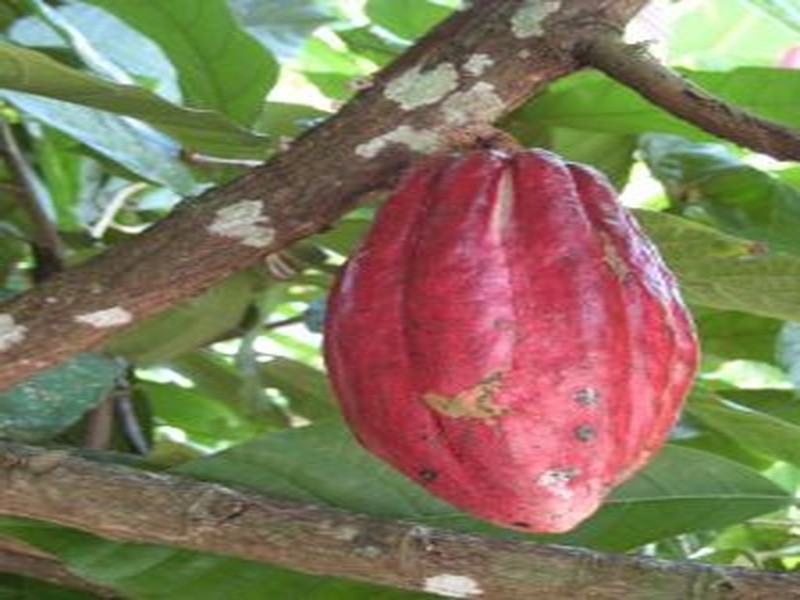Cacaopod: (323, 154, 702, 536)
